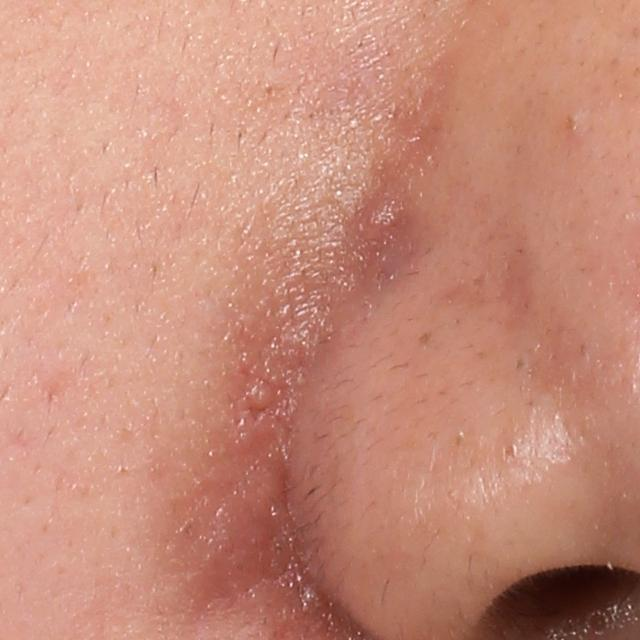comedo: (559, 108, 582, 135), (500, 438, 520, 460)
